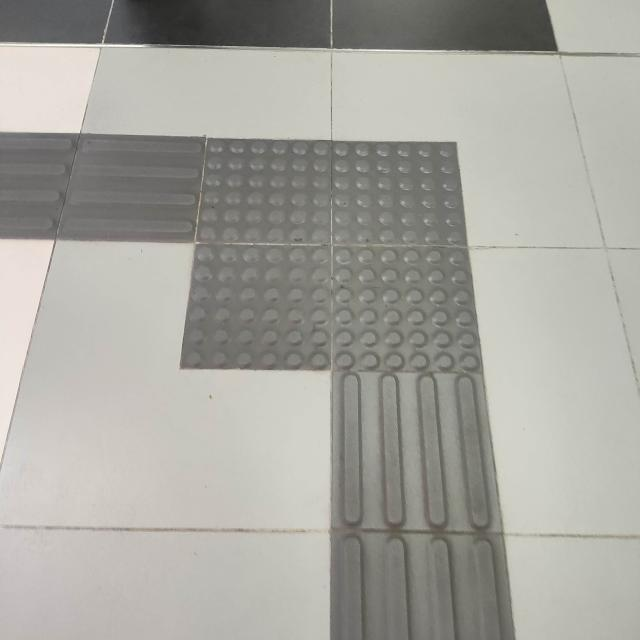kiri: (9, 82, 601, 510)
